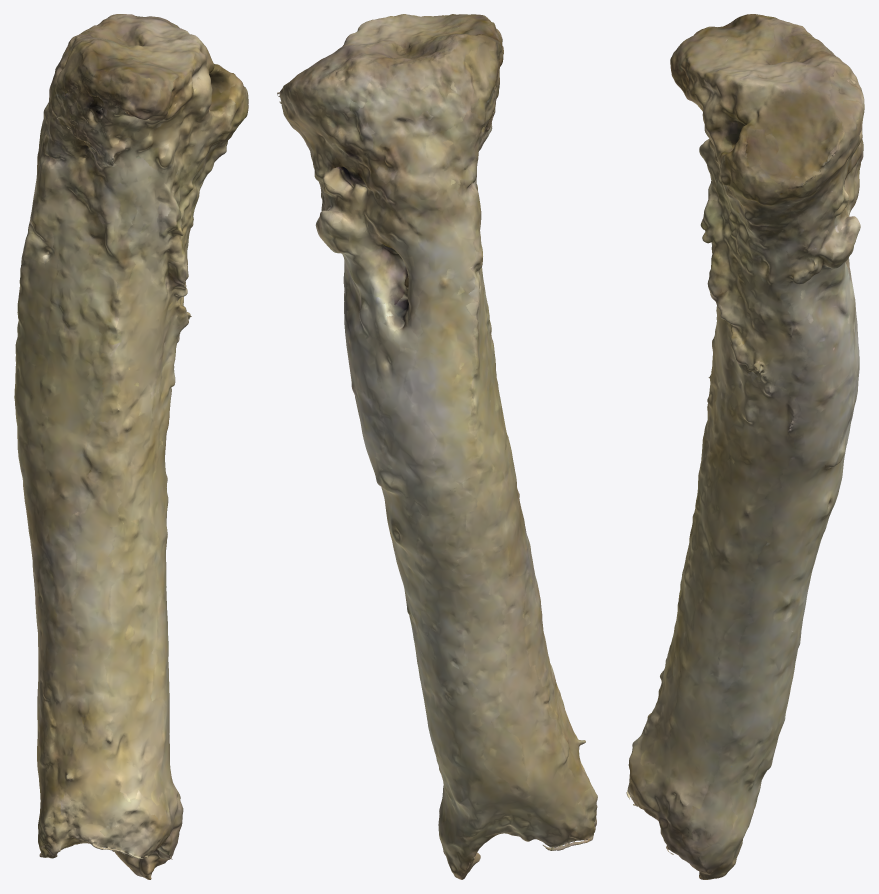
Rendered from tibia-s.glb.
3 renders of one model, left to right at view 1: azimuth 30°, elevation 25°; view 2: azimuth 150°, elevation 25°; view 3: azimuth 270°, elevation 25°, orthographic. The views are drawn at different scales.
Visible parts, largest first — view 1: defaultobject; view 2: defaultobject; view 3: defaultobject.
Part boxes in pixels (x1,y1,x2,y2): defaultobject: (14, 14, 248, 879); defaultobject: (277, 14, 597, 879); defaultobject: (626, 14, 864, 879).
Bounding box in the file's own units: 96.39 × 311 × 79.12.
1 material, 1 textured.
